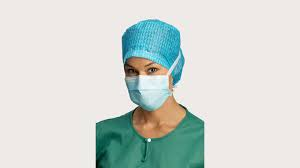FaceMask: (125, 75, 171, 111)
